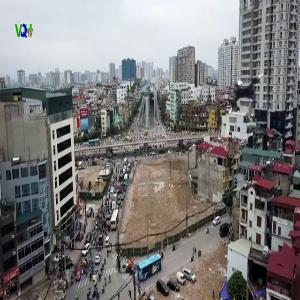drone: (224, 69, 282, 127)
